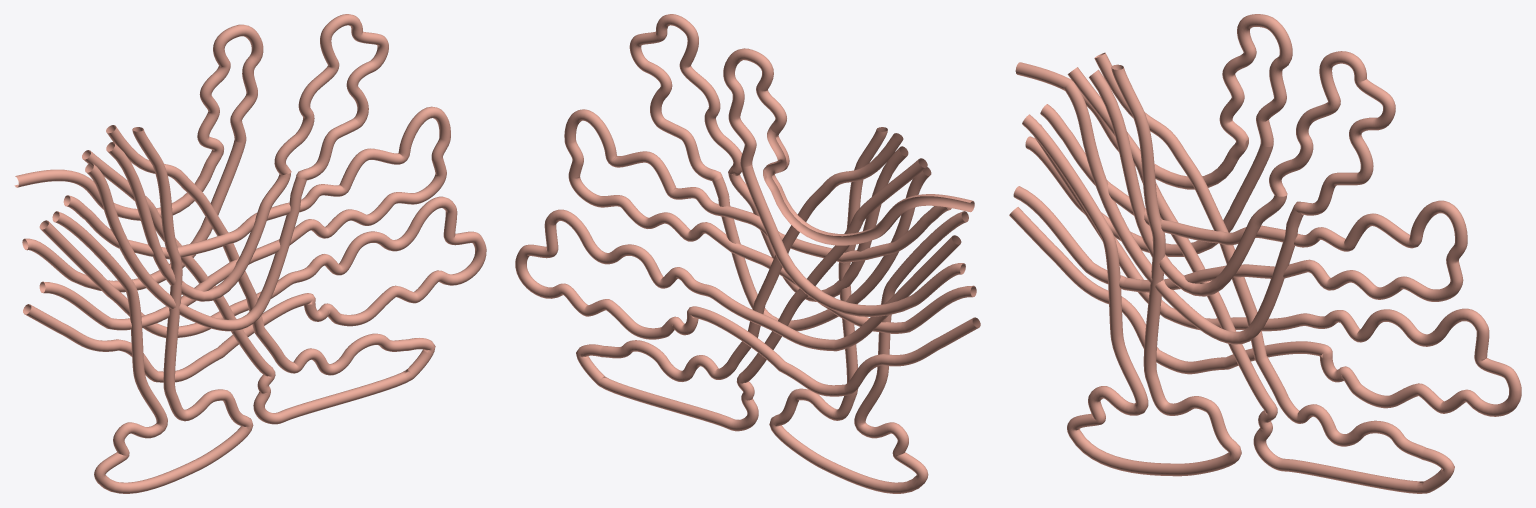
The model's file is TubulosFinal.glb.
3 renders of one model, left to right at view 1: azimuth 30°, elevation 25°; view 2: azimuth 150°, elevation 25°; view 3: azimuth 330°, elevation 25°, orthographic. The views are drawn at different scales.
Parts seen in each view (by area): view 1: NurbsPath.021, NurbsPath.023, NurbsPath.025, NurbsPath.024, NurbsPath.022, NurbsPath.001; view 2: NurbsPath.023, NurbsPath.024, NurbsPath.021, NurbsPath.001, NurbsPath.022, NurbsPath.025; view 3: NurbsPath.021, NurbsPath.025, NurbsPath.024, NurbsPath.023, NurbsPath.022, NurbsPath.001.
Boxes of the visible parts, left/top/right/bottom form: NurbsPath.021: left=85, top=14, right=388, bottom=331; NurbsPath.023: left=23, top=196, right=486, bottom=382; NurbsPath.025: left=52, top=127, right=253, bottom=493; NurbsPath.024: left=82, top=125, right=435, bottom=424; NurbsPath.022: left=39, top=106, right=450, bottom=330; NurbsPath.001: left=14, top=24, right=263, bottom=292; NurbsPath.023: left=515, top=209, right=980, bottom=396; NurbsPath.024: left=576, top=133, right=927, bottom=431; NurbsPath.021: left=629, top=14, right=931, bottom=331; NurbsPath.001: left=723, top=48, right=974, bottom=316; NurbsPath.022: left=564, top=109, right=976, bottom=333; NurbsPath.025: left=769, top=127, right=968, bottom=493; NurbsPath.021: left=1063, top=51, right=1395, bottom=344; NurbsPath.025: left=1022, top=64, right=1241, bottom=476; NurbsPath.024: left=1067, top=52, right=1454, bottom=493; NurbsPath.023: left=1009, top=124, right=1521, bottom=416; NurbsPath.022: left=1013, top=104, right=1467, bottom=301; NurbsPath.001: left=1015, top=14, right=1292, bottom=256.
Size of the model in its own units: 19.96 by 17.58 by 1.8.
